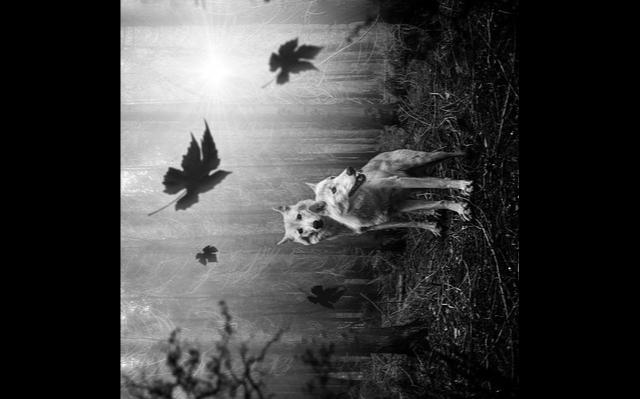Non_Gorille: (217, 80, 471, 308)
